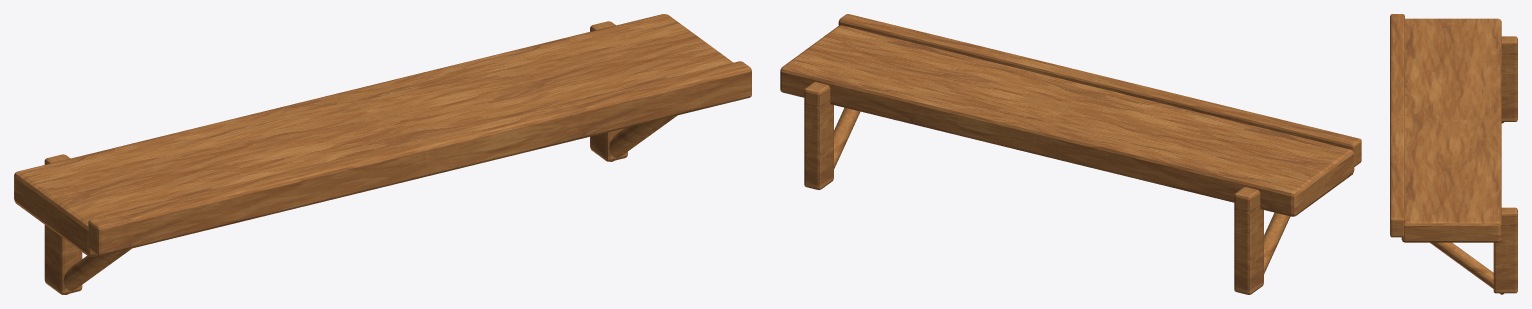
The model's file is WC_CAFE_Shelf_A.glb.
3 renders of one model, left to right at view 1: azimuth 30°, elevation 25°; view 2: azimuth 150°, elevation 25°; view 3: azimuth 270°, elevation 25°, orthographic. The views are drawn at different scales.
Parts seen in each view (by area): view 1: WC_CAFE_Shelf_A_RenderMesh; view 2: WC_CAFE_Shelf_A_RenderMesh; view 3: WC_CAFE_Shelf_A_RenderMesh.
Boxes of the visible parts, left/top/right/bottom form: WC_CAFE_Shelf_A_RenderMesh: left=14, top=14, right=751, bottom=294; WC_CAFE_Shelf_A_RenderMesh: left=780, top=14, right=1361, bottom=294; WC_CAFE_Shelf_A_RenderMesh: left=1390, top=14, right=1517, bottom=294.
Size of the model in its own units: 1.8 by 0.378 by 0.4725.
Materials: 3 (3 with a texture image).
